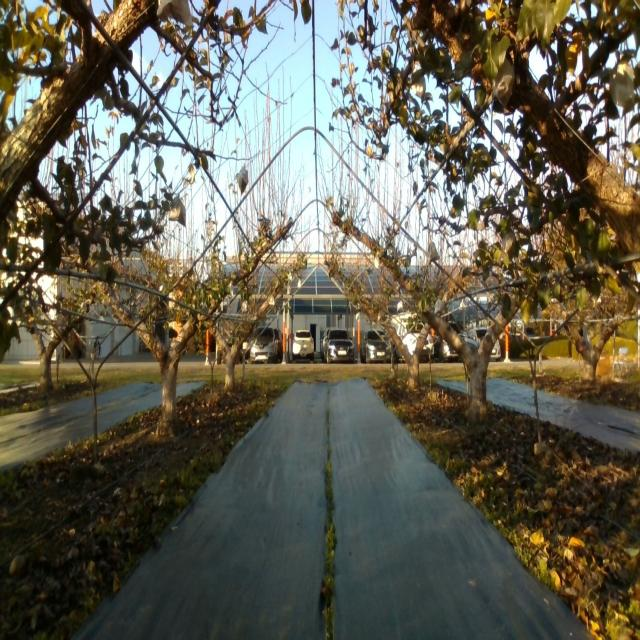pearbags: (609, 61, 635, 110), (169, 198, 186, 228), (238, 166, 249, 194), (427, 242, 439, 262)
